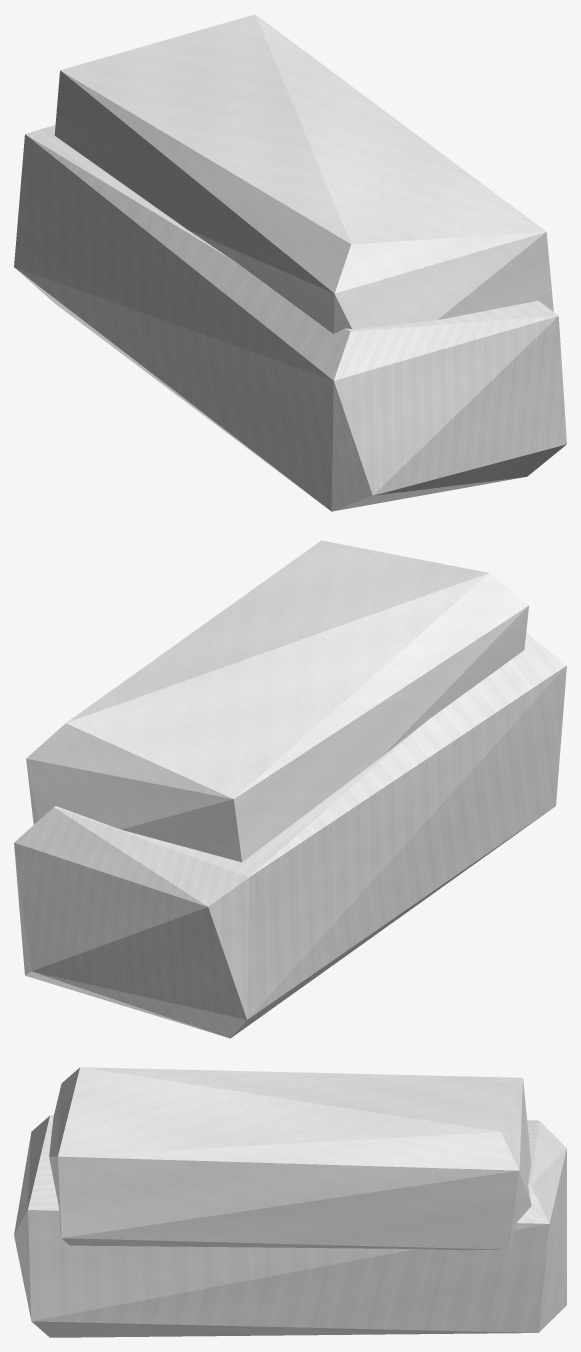
File: Field_Medic_Forearm_Guard_R_ShadowProxy.glb
3 views of the same model, one above another, from view 1: azimuth 30°, elevation 25°; view 2: azimuth 150°, elevation 25°; view 3: azimuth 270°, elevation 25° (orthographic). The views are drawn at different scales.
Visible parts, largest first — view 1: Field_Medic_Forearm_Guard_R_ShadowProxy; view 2: Field_Medic_Forearm_Guard_R_ShadowProxy; view 3: Field_Medic_Forearm_Guard_R_ShadowProxy.
Part boxes in pixels (x1,y1,x2,y2): Field_Medic_Forearm_Guard_R_ShadowProxy: (14,14,566,511); Field_Medic_Forearm_Guard_R_ShadowProxy: (14,540,566,1038); Field_Medic_Forearm_Guard_R_ShadowProxy: (14,1067,566,1337).
Size of the model in its own units: 0.0746 by 0.0765 by 0.184.
Materials: 2 (2 with a texture image).
